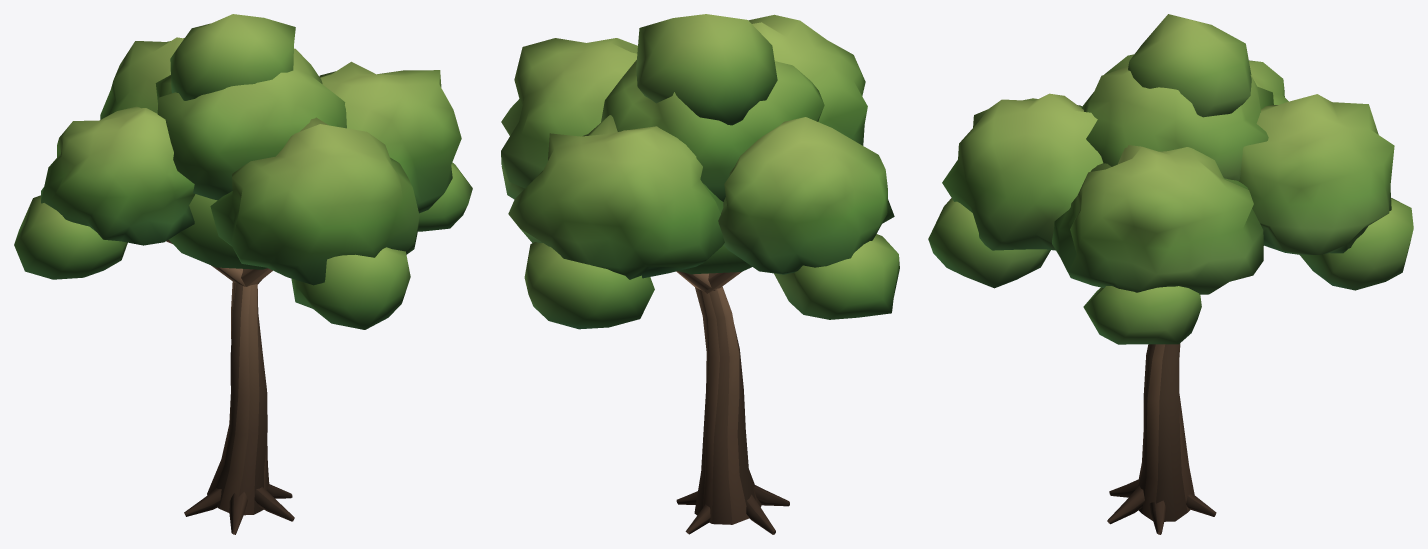
The model's file is island_tree_01.glb.
3 renders of one model, left to right at view 1: azimuth 30°, elevation 25°; view 2: azimuth 150°, elevation 25°; view 3: azimuth 270°, elevation 25°, orthographic. The views are drawn at different scales.
Parts seen in each view (by area): view 1: Folhas, Tronco; view 2: Folhas, Tronco; view 3: Folhas, Tronco.
Part boxes in pixels (x1,y1,x2,y2): Folhas: [14, 14, 472, 329]; Tronco: [166, 240, 294, 534]; Folhas: [501, 14, 899, 329]; Tronco: [676, 271, 789, 534]; Folhas: [928, 14, 1413, 344]; Tronco: [1107, 343, 1216, 534].
Bounding box in the file's own units: 11.2 × 12.86 × 11.45.
